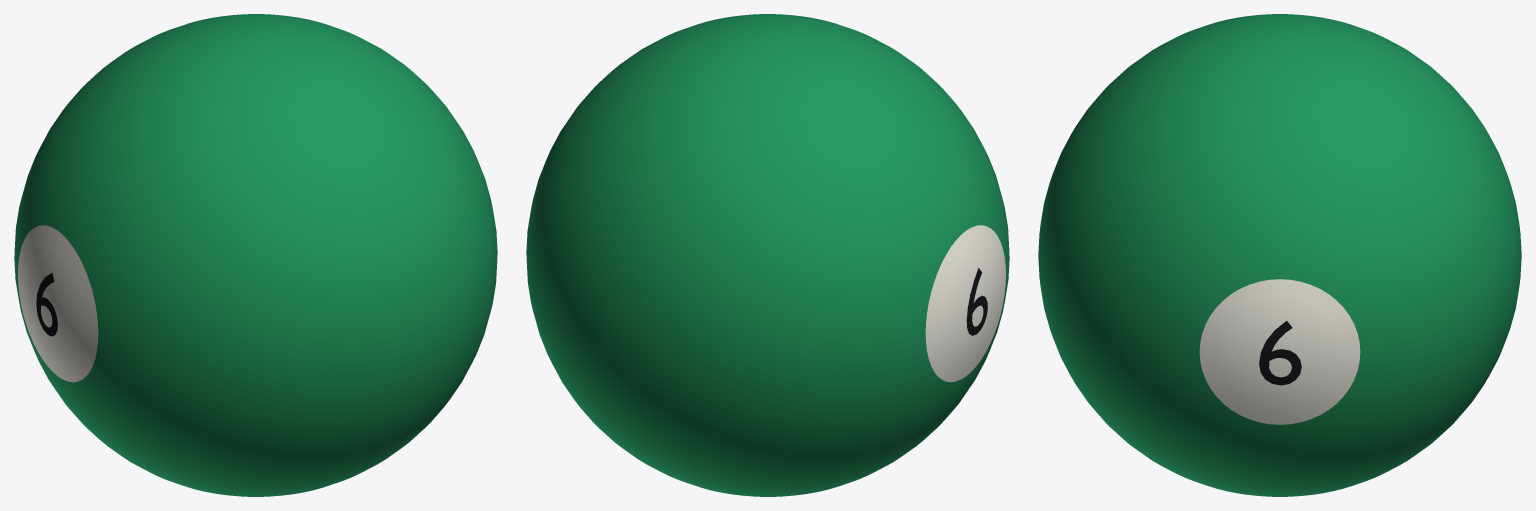
Rendered from ball_06.glb.
3 renders of one model, left to right at view 1: azimuth 30°, elevation 25°; view 2: azimuth 150°, elevation 25°; view 3: azimuth 270°, elevation 25°, orthographic.
Visible parts, largest first — view 1: Ball 06 | resin, Ball 06 | number medallion | opposite, Ball 06 | numeral 6 | opposite; view 2: Ball 06 | resin, Ball 06 | number medallion | opposite, Ball 06 | numeral 6 | opposite; view 3: Ball 06 | resin, Ball 06 | number medallion, Ball 06 | numeral 6.
Part boxes in pixels (x1,y1,x2,y2): Ball 06 | resin: (14,14,497,496); Ball 06 | number medallion | opposite: (18,225,98,382); Ball 06 | numeral 6 | opposite: (36,273,57,336); Ball 06 | resin: (526,14,1009,496); Ball 06 | number medallion | opposite: (925,225,1005,382); Ball 06 | numeral 6 | opposite: (966,268,987,335); Ball 06 | resin: (1038,14,1521,496); Ball 06 | number medallion: (1199,279,1360,424); Ball 06 | numeral 6: (1259,320,1301,385).
Size of the model in its own units: 0.0573 by 0.0571 by 0.0571.
